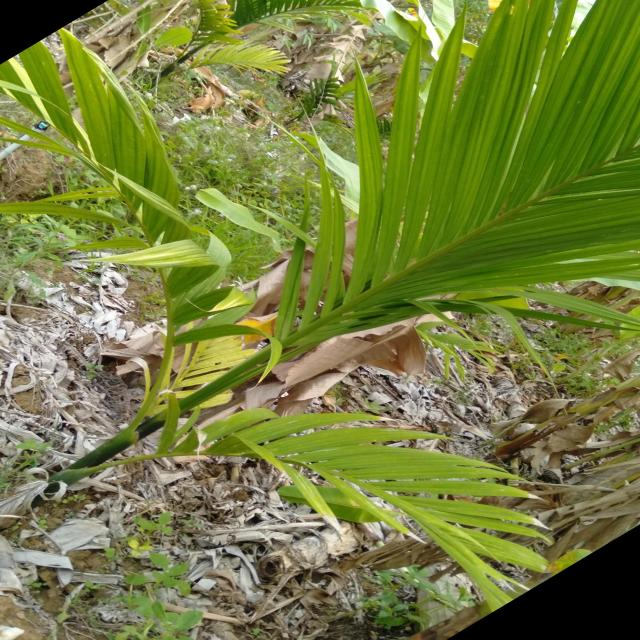Healthy_Leaf: (179, 123, 605, 525)
